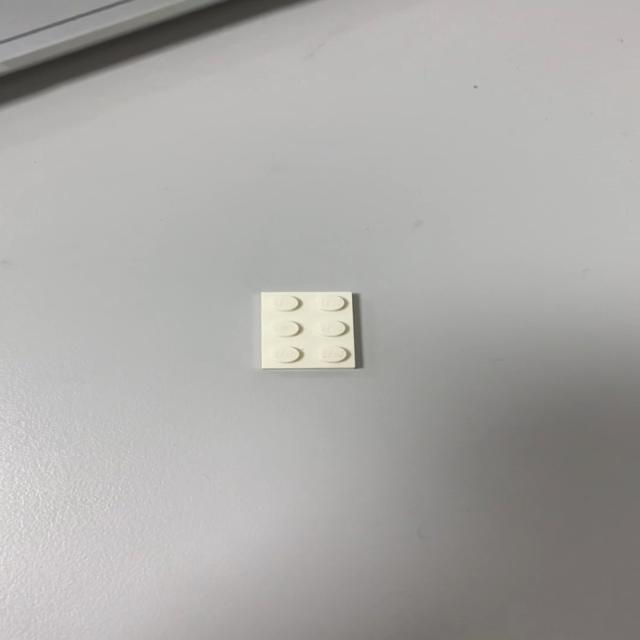C3x2x0: (250, 290, 349, 370)
